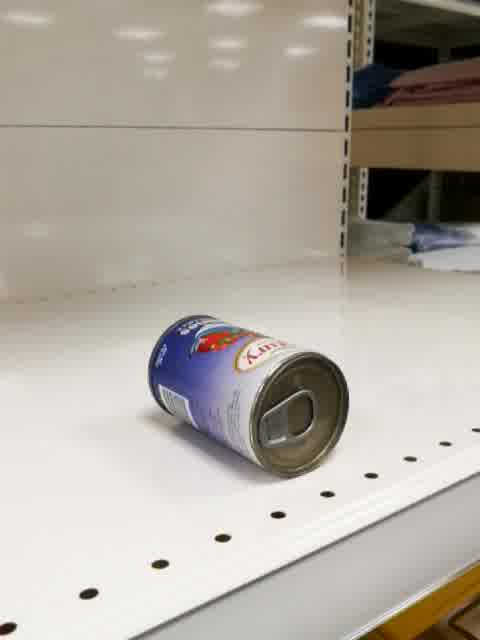sardine: (146, 314, 349, 479)
